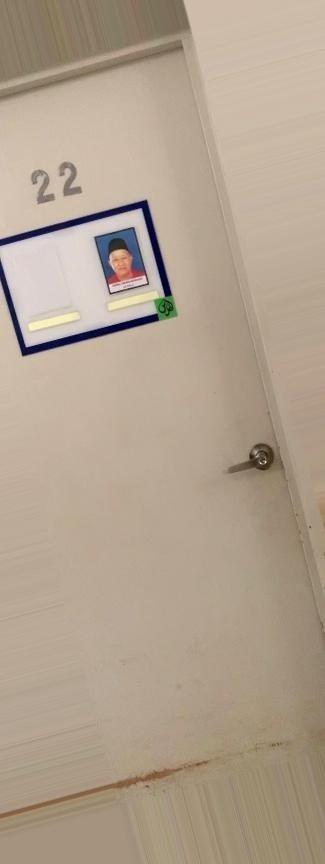door: (0, 42, 325, 817)
